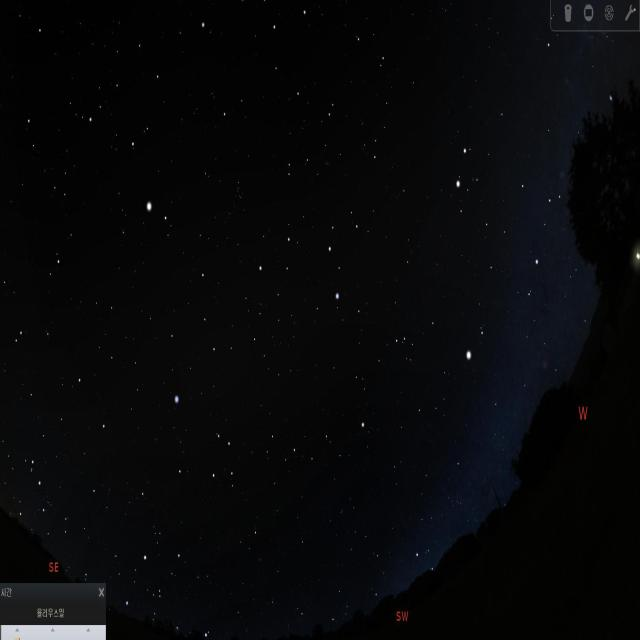bootes: (106, 30, 184, 232)
canis_minor: (453, 301, 494, 377)
gemini: (455, 138, 557, 279)
leo: (249, 196, 374, 322)
